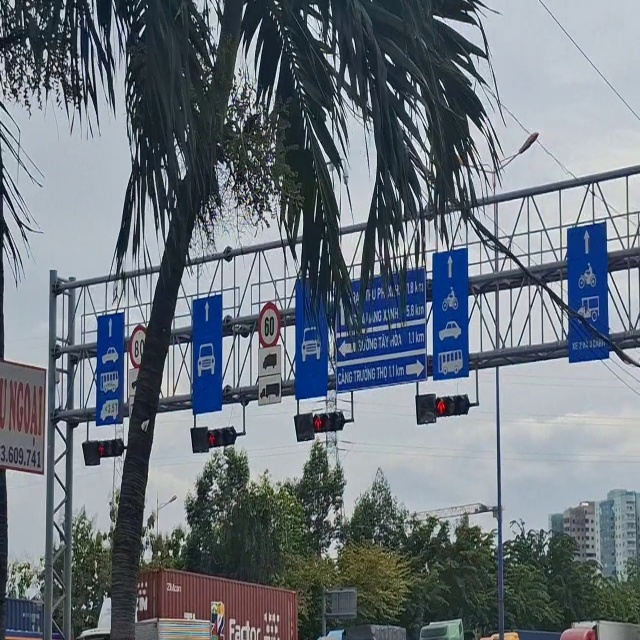toc do toi da 60km/h: (249, 294, 288, 360)
